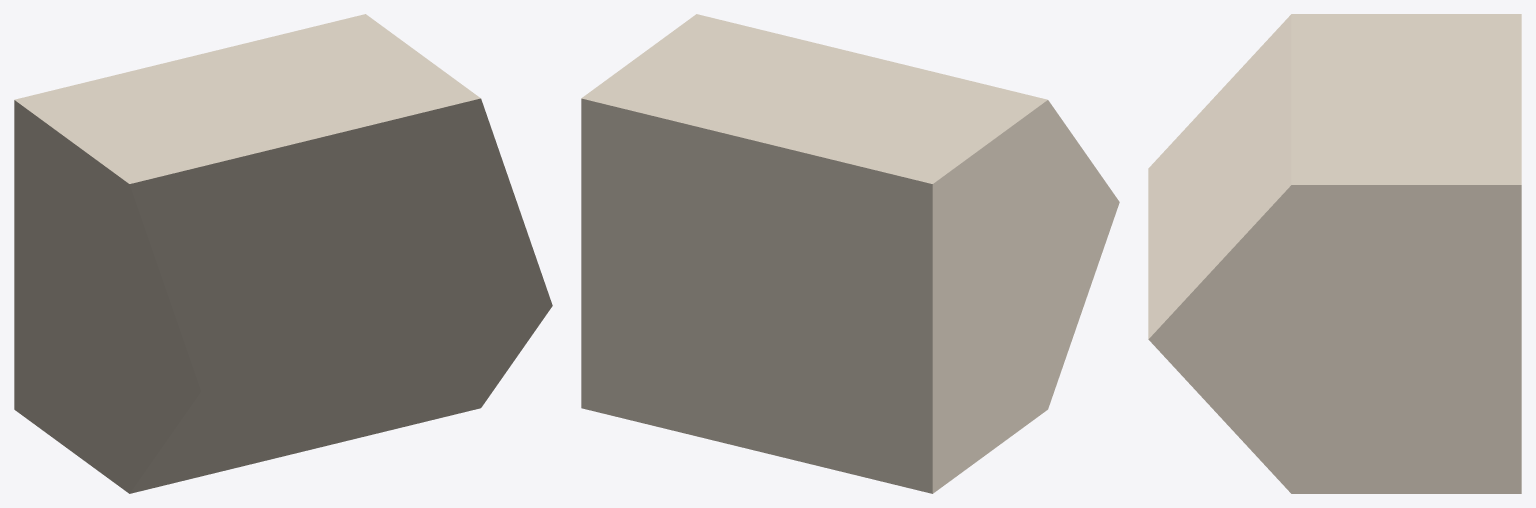
Rendered from maison_fontanay.obj.
The picture shows the model from 3 angles, left to right: view 1: azimuth 30°, elevation 25°; view 2: azimuth 150°, elevation 25°; view 3: azimuth 270°, elevation 25°; orthographic projection.
Bounding box in the file's own units: 9.5 × 8 × 8.76.
